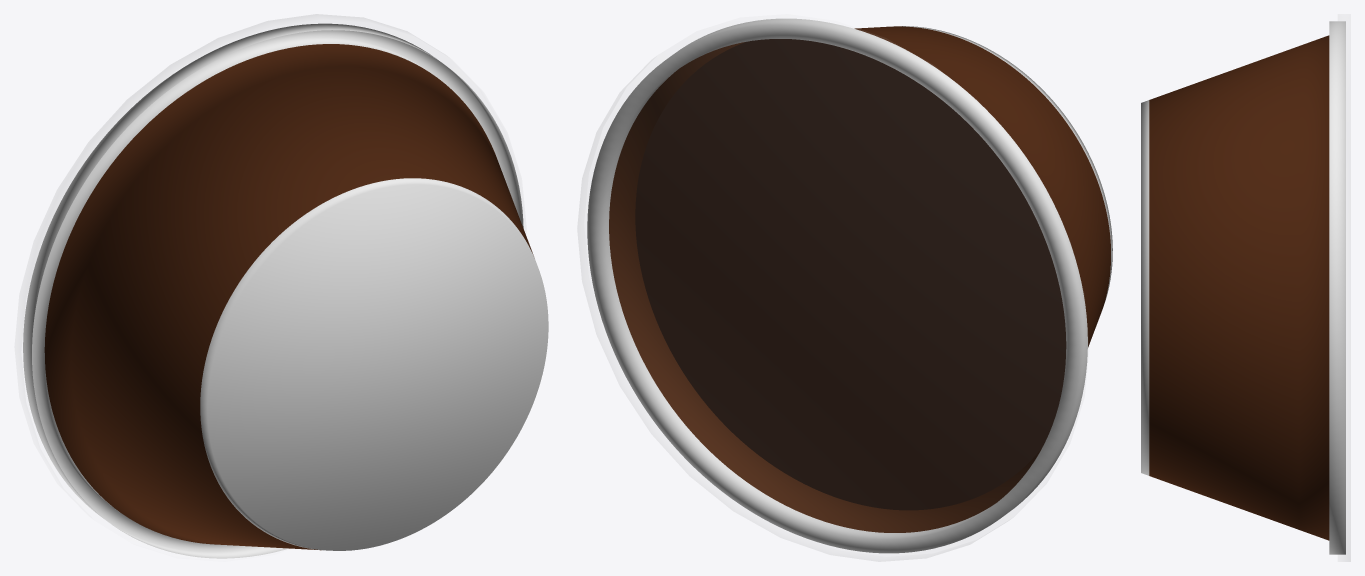
File: pudding.fbx
3 views of the same model, side by side, from view 1: azimuth 30°, elevation 25°; view 2: azimuth 150°, elevation 25°; view 3: azimuth 270°, elevation 25° (orthographic). The views are drawn at different scales.
Visible parts, largest first — view 1: pudding; view 2: pudding; view 3: pudding.
Boxes of the visible parts, bbox=[...] form: pudding: bbox=[15, 14, 548, 558]; pudding: bbox=[578, 18, 1112, 561]; pudding: bbox=[1141, 14, 1350, 561].
Size of the model in its own units: 915 by 915 by 350.
